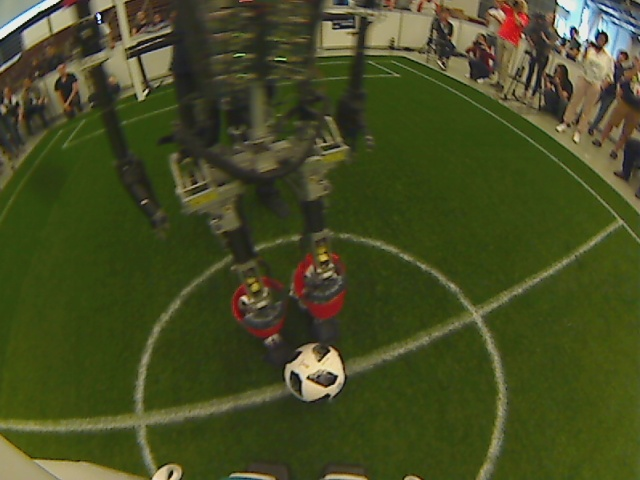ball: (282, 341, 351, 404)
